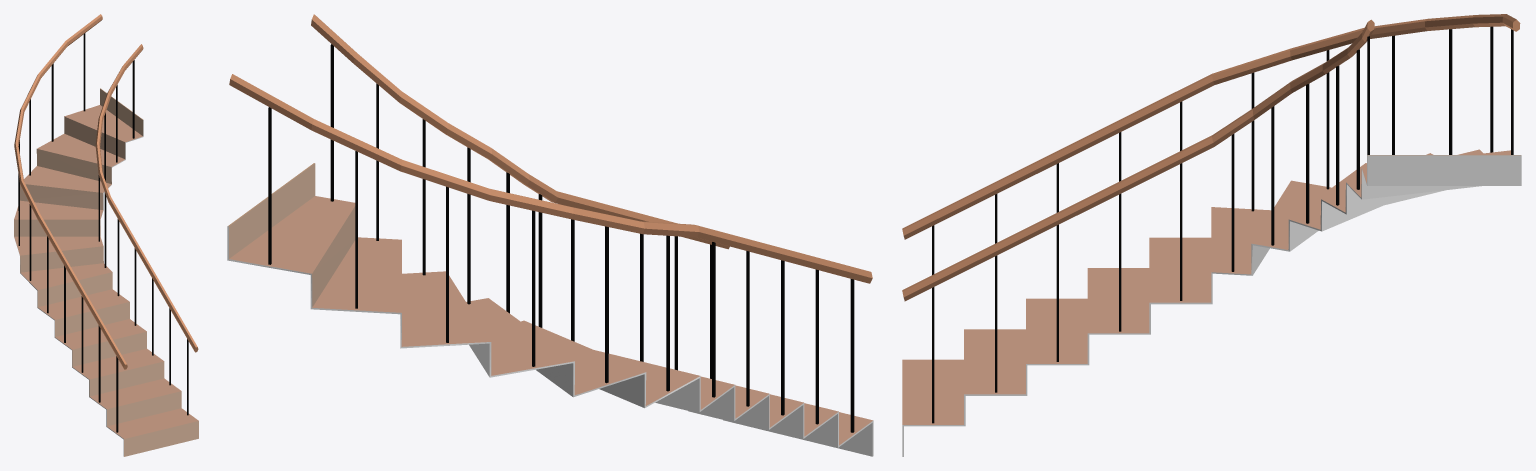
The model's file is sweethome3d-contributions-staircase-curved-at-top-439.glb.
3 renders of one model, left to right at view 1: azimuth 30°, elevation 25°; view 2: azimuth 150°, elevation 25°; view 3: azimuth 270°, elevation 25°, orthographic. The views are drawn at different scales.
Visible parts, largest first — view 1: 43_43, 1_1.001, Cube.010, 1_1.000_1_1.002, Cube.011; view 2: 43_43, 1_1.001, Cube.010, Cube.011, 1_1.000_1_1.002; view 3: 43_43, 1_1.001, 1_1.000_1_1.002, Cube.011, Cube.010.
Boxes of the visible parts, bbox=[...] form: 43_43: bbox=[14, 88, 198, 456]; 1_1.001: bbox=[14, 14, 127, 369]; Cube.010: bbox=[18, 33, 118, 432]; 1_1.000_1_1.002: bbox=[95, 44, 198, 352]; Cube.011: bbox=[98, 60, 188, 415]; 43_43: bbox=[227, 163, 873, 456]; 1_1.001: bbox=[229, 74, 872, 283]; Cube.010: bbox=[268, 107, 854, 432]; Cube.011: bbox=[330, 44, 711, 378]; 1_1.000_1_1.002: bbox=[311, 14, 729, 249]; 43_43: bbox=[902, 149, 1521, 456]; 1_1.001: bbox=[902, 14, 1520, 239]; 1_1.000_1_1.002: bbox=[902, 19, 1374, 301]; Cube.011: bbox=[932, 36, 1369, 423]; Cube.010: bbox=[932, 26, 1513, 274].
Size of the model in its own units: 200 by 358 by 401.
